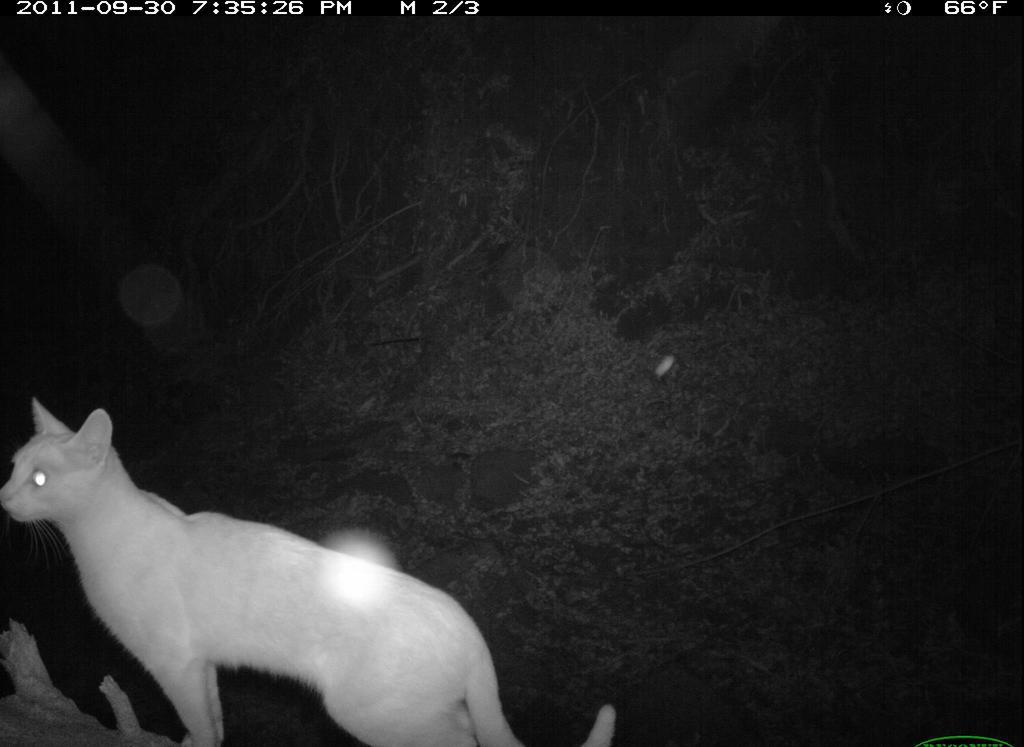cat: (7, 383, 636, 747)
